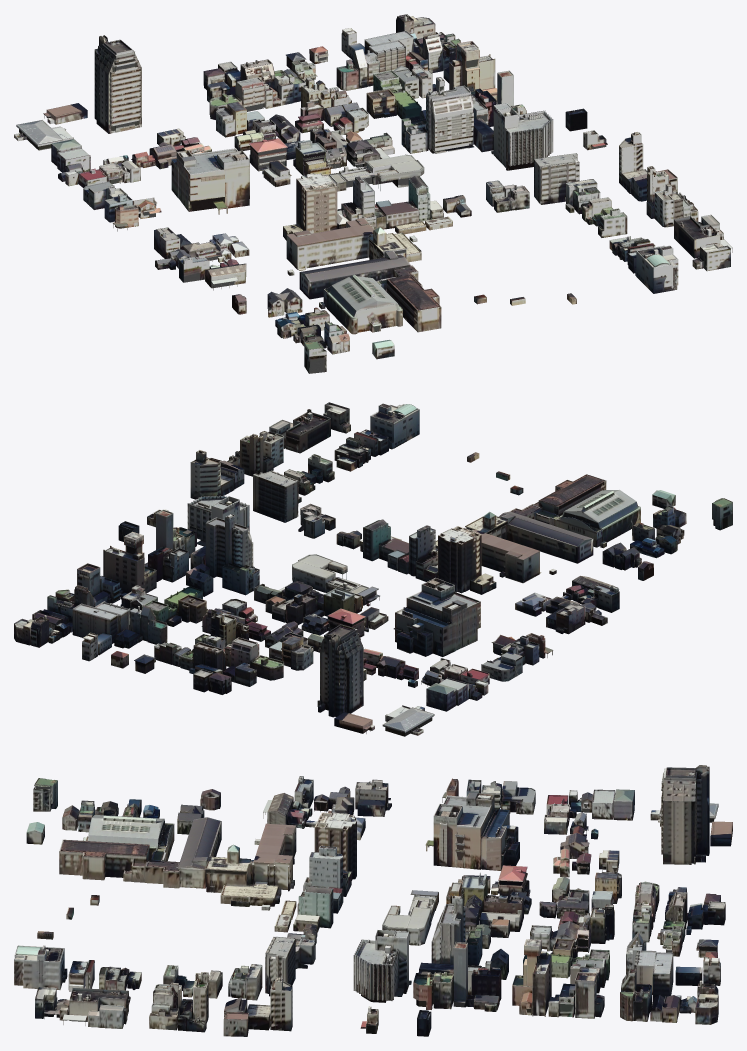
The model's file is lod3-station-6-0-packed.glb.
3 renders of one model, top to bottom at view 1: azimuth 30°, elevation 25°; view 2: azimuth 150°, elevation 25°; view 3: azimuth 270°, elevation 25°, orthographic. The views are drawn at different scales.
Size of the model in its own units: 281 by 49.48 by 349.
31 materials, 30 textured.
